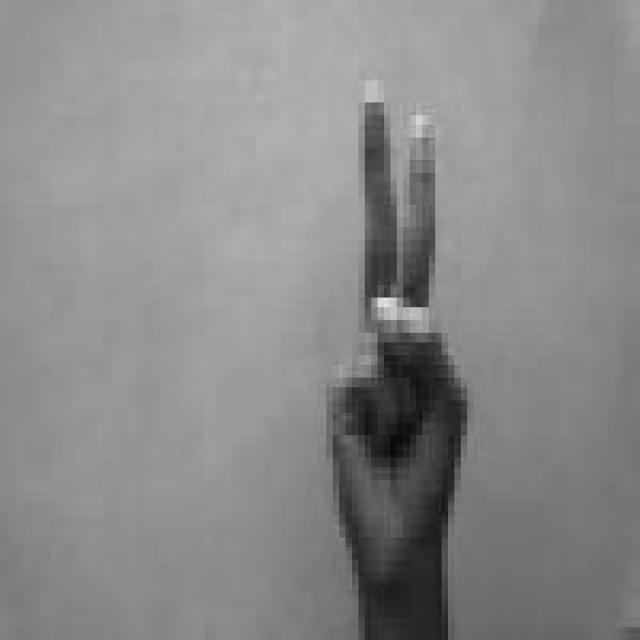V: (318, 70, 476, 586)
